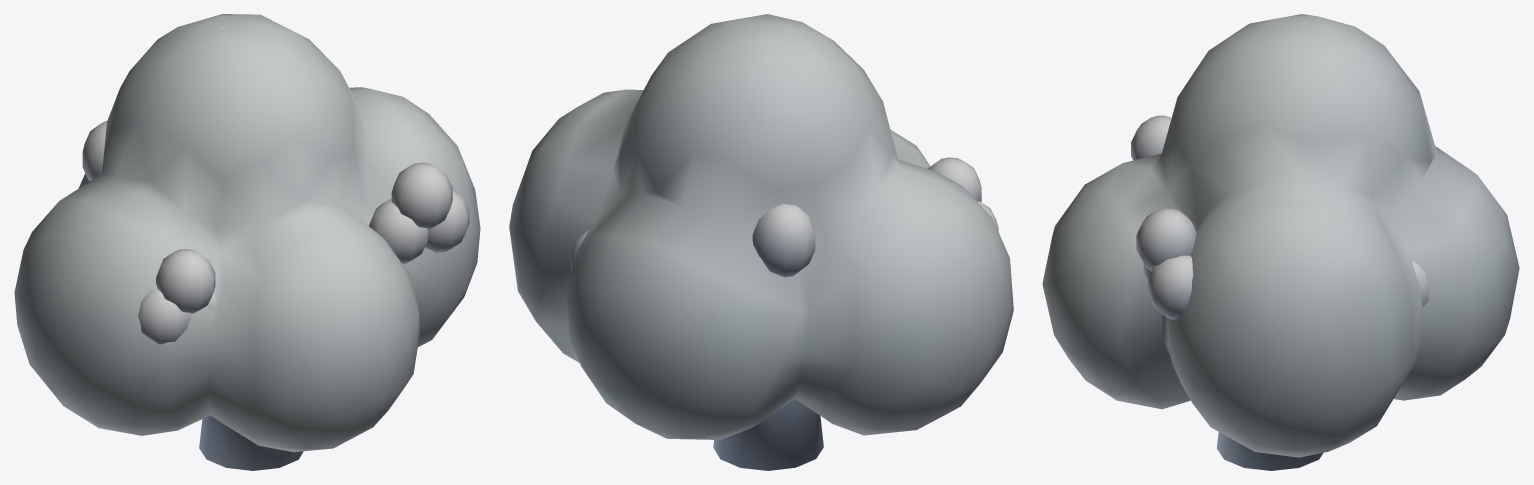
Rendered from Cloudberry_Bush.glb.
3 views of the same model, side by side, from view 1: azimuth 30°, elevation 25°; view 2: azimuth 150°, elevation 25°; view 3: azimuth 270°, elevation 25° (orthographic). The views are drawn at different scales.
Visible parts, largest first — view 1: Cloudberry_Bush; view 2: Cloudberry_Bush; view 3: Cloudberry_Bush.
Boxes of the visible parts, x1=… form: Cloudberry_Bush: x1=14, y1=14, x2=480, y2=470; Cloudberry_Bush: x1=509, y1=14, x2=1013, y2=470; Cloudberry_Bush: x1=1042, y1=14, x2=1519, y2=470.
Bounding box in the file's own units: 4.4 × 3.98 × 4.1.
